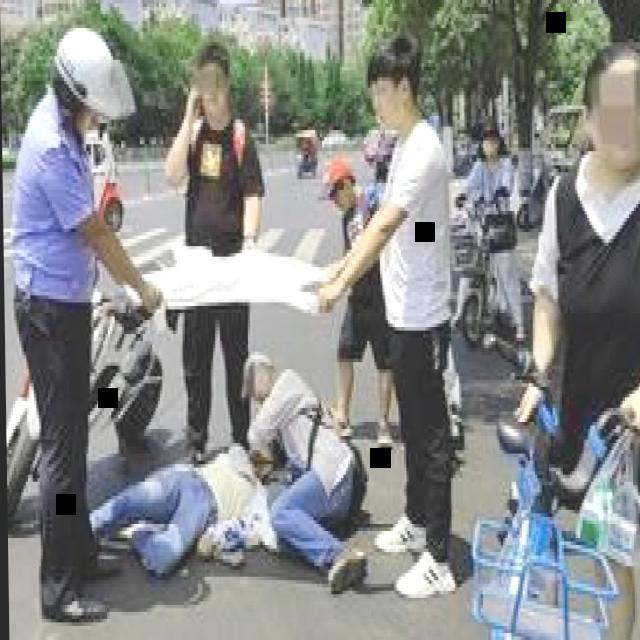Fall-Detected: (82, 418, 278, 588)
